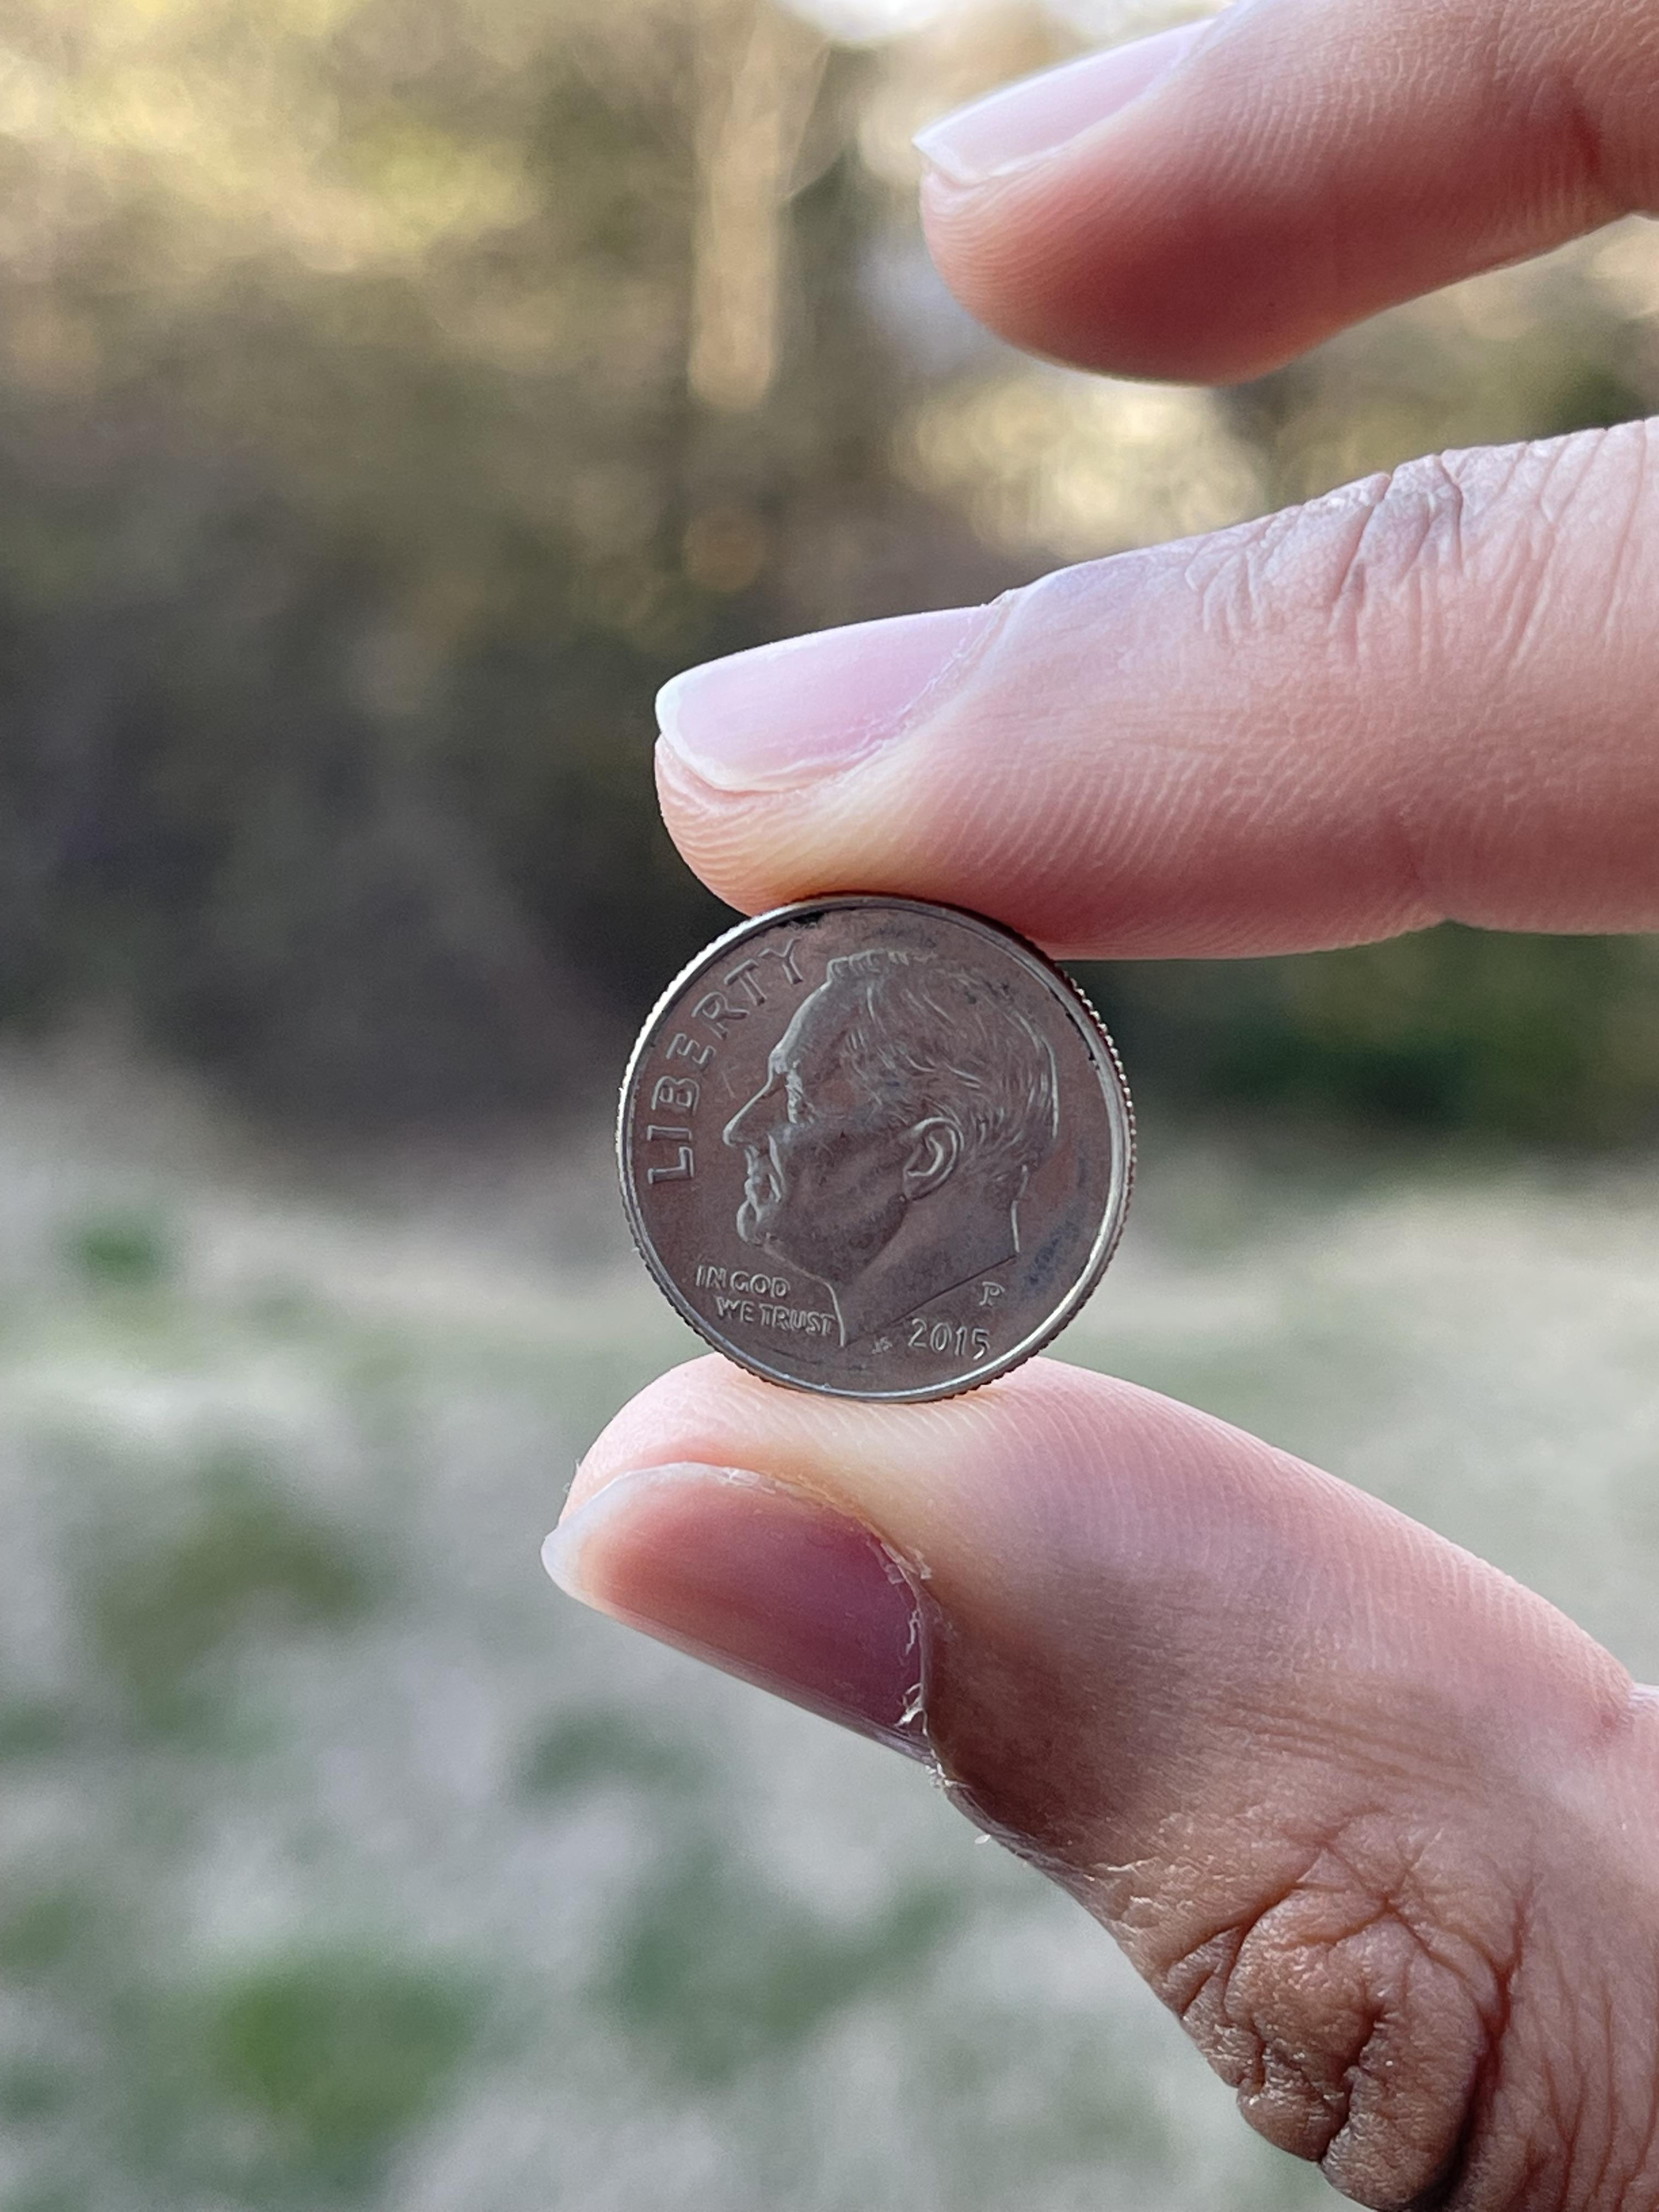Dime: (612, 892, 1140, 1404)
